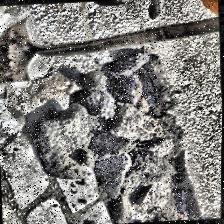pothole: (80, 44, 208, 224)
